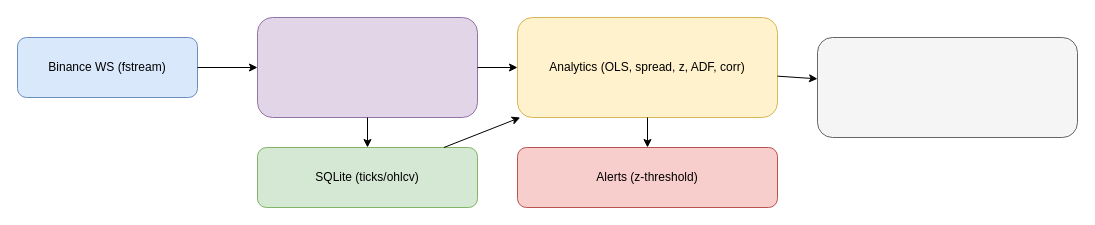
Some shapes in this 1095 by 225 pixel diagram are drawn without their labels. Each missing label, with the box of its shape:
Dash UI (charts, controls, upload, export): (816, 36, 1078, 138)
MarketDataManager\n(ticks buffer, resample): (256, 16, 478, 118)
